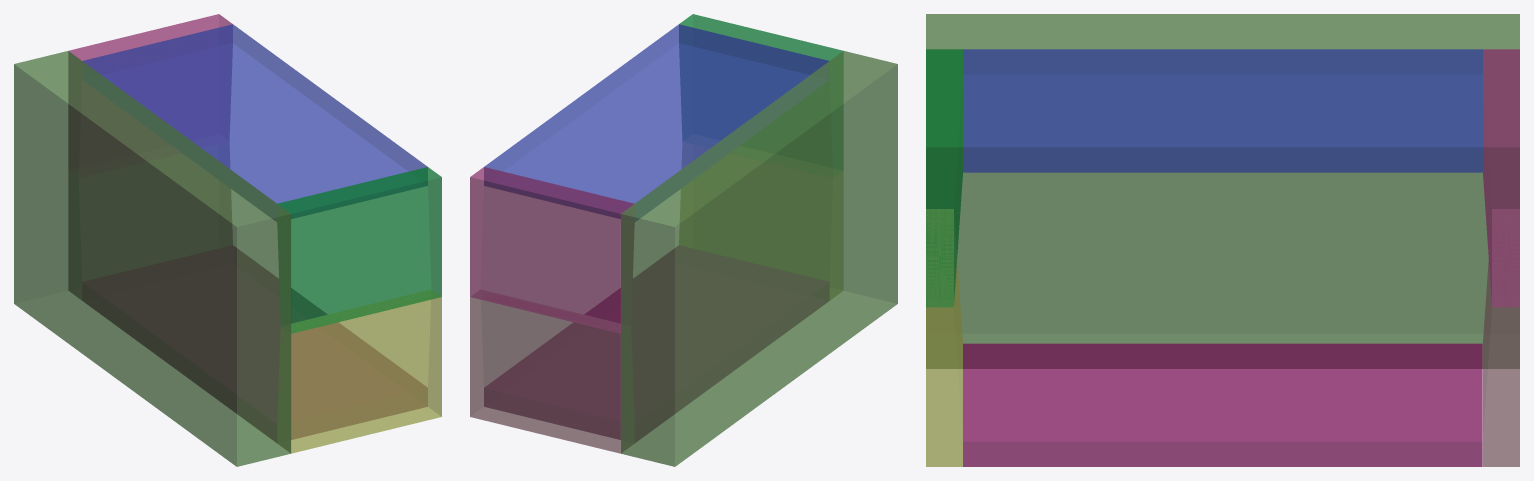
File: Fridge_color.obj
3 renders of one model, left to right at view 1: azimuth 30°, elevation 25°; view 2: azimuth 150°, elevation 25°; view 3: azimuth 270°, elevation 25°, orthographic. The views are drawn at different scales.
Parts seen in each view (by area): view 1: Shape_IndexedFaceSet.005_Shape_IndexedFaceSet.204; view 2: Shape_IndexedFaceSet.005_Shape_IndexedFaceSet.204; view 3: Shape_IndexedFaceSet.005_Shape_IndexedFaceSet.204.
Part boxes in pixels (x1,y1,x2,y2): Shape_IndexedFaceSet.005_Shape_IndexedFaceSet.204: [14, 14, 441, 466]; Shape_IndexedFaceSet.005_Shape_IndexedFaceSet.204: [470, 14, 897, 466]; Shape_IndexedFaceSet.005_Shape_IndexedFaceSet.204: [926, 14, 1519, 466].
Bounding box in the file's own units: 0.5098 × 0.5698 × 0.9597.
